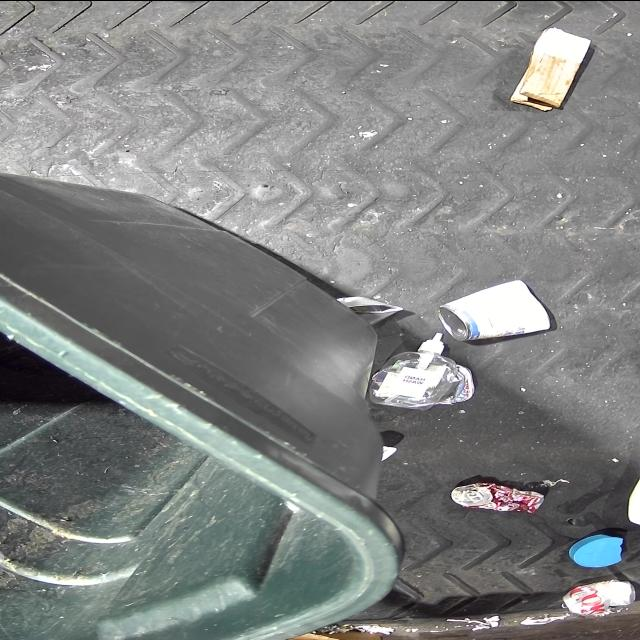can: (436, 279, 550, 340), (451, 481, 546, 514), (559, 579, 636, 619), (337, 296, 403, 324)
